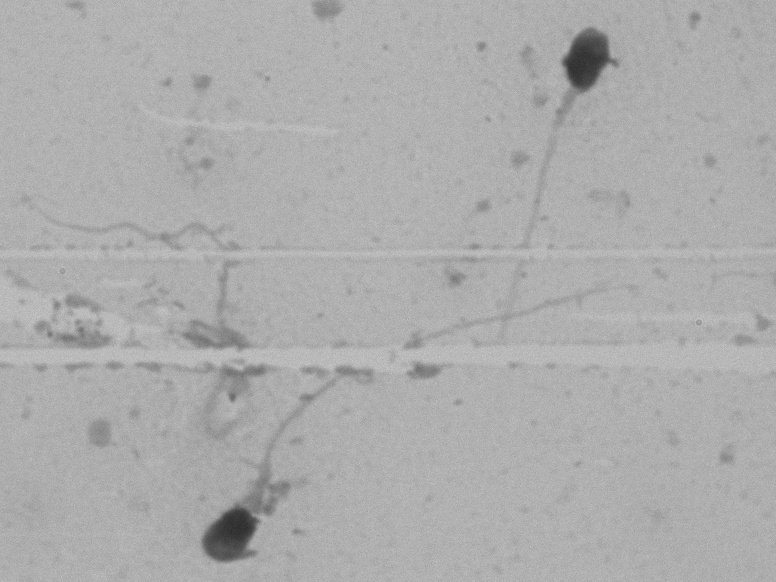Abnormal: (449, 20, 668, 321), (150, 358, 412, 572)
